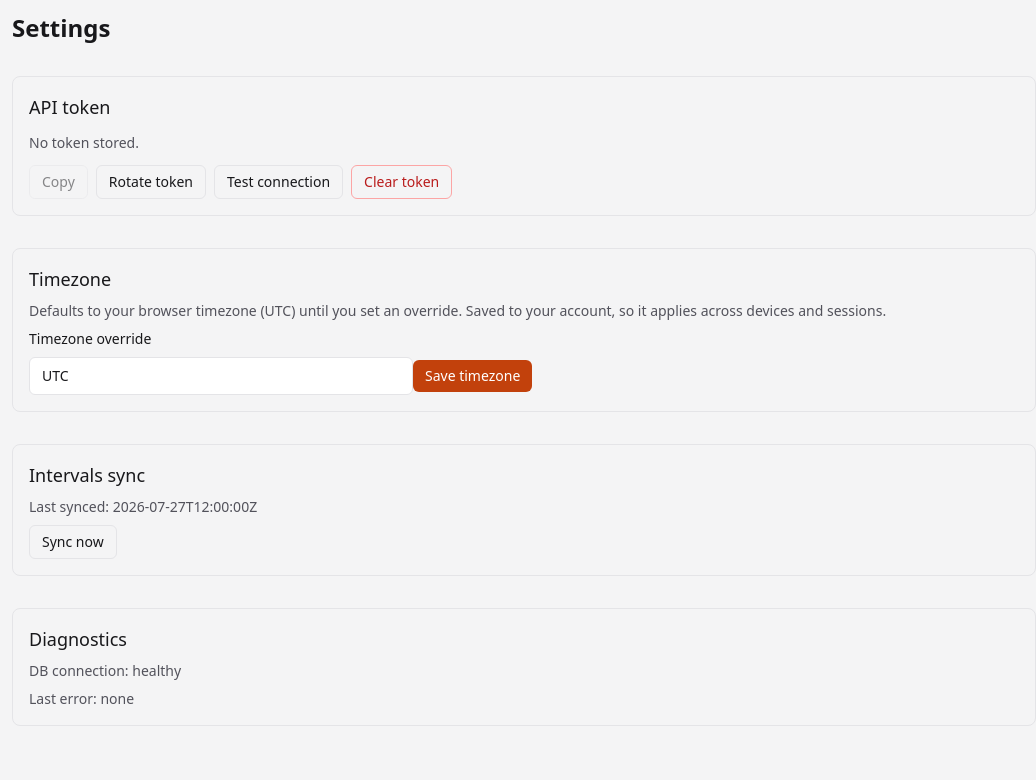
Test: SettingsPage › test connection surfaces an error when the authenticated request fails
Expected: the text "Last synced: 2026-07-27T12:00:00Z" is shown, [29, 497, 257, 516]
Click the button "Test connection" at (278, 182), box [214, 165, 343, 199]
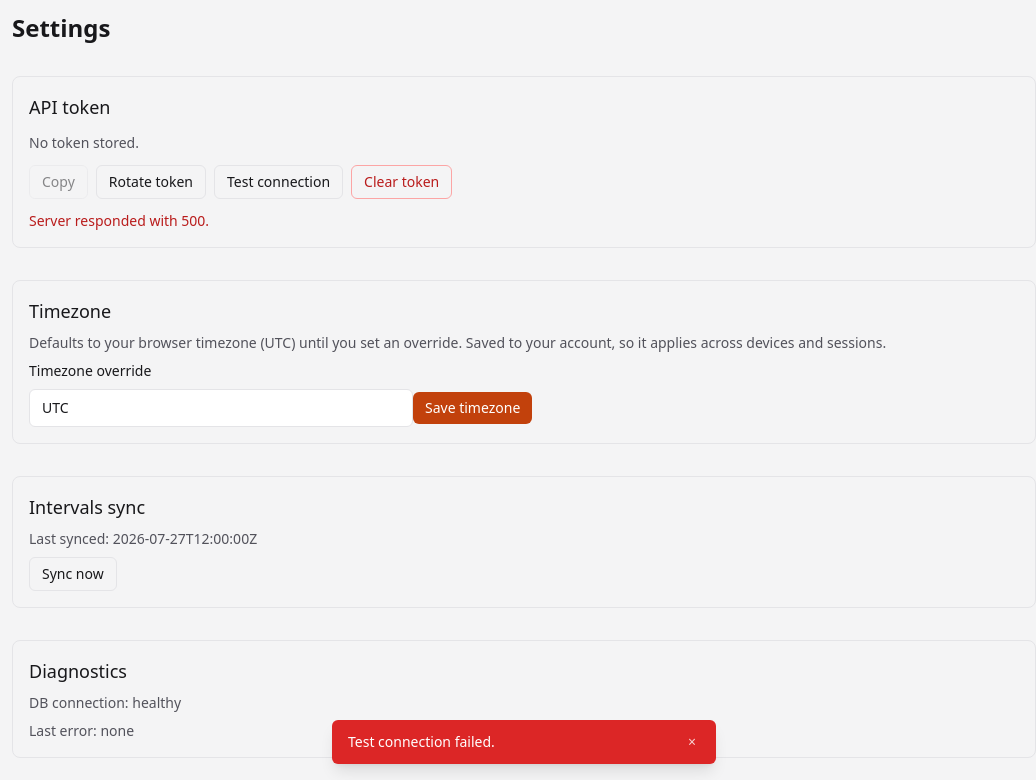
Now the text "Server responded with 500." is shown, box [29, 211, 209, 230]
